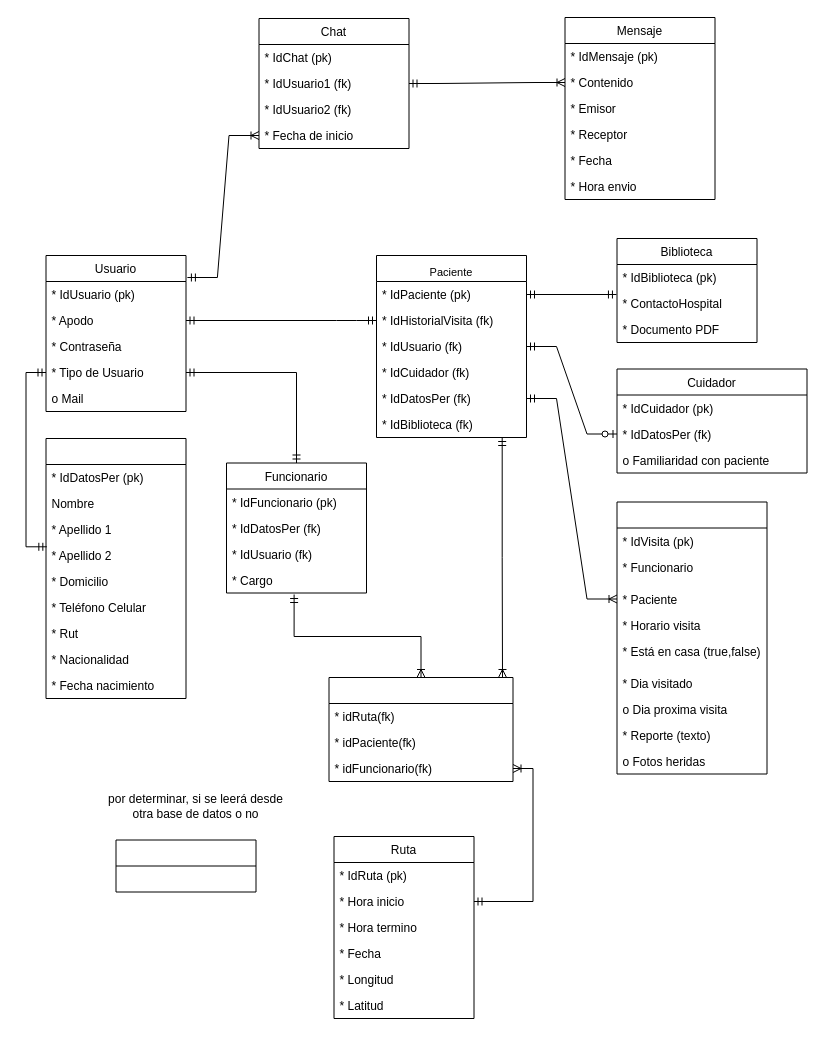
Image size: 824x1039. Some labels were removed from this diagram. Each missing label, with the box of its shape:
Asignacion (nombre temporal): (328, 676, 513, 782)
Datos personales: (45, 438, 186, 698)
Ficha Paciente: (115, 839, 256, 892)
Historial de Visita: (616, 501, 767, 774)
